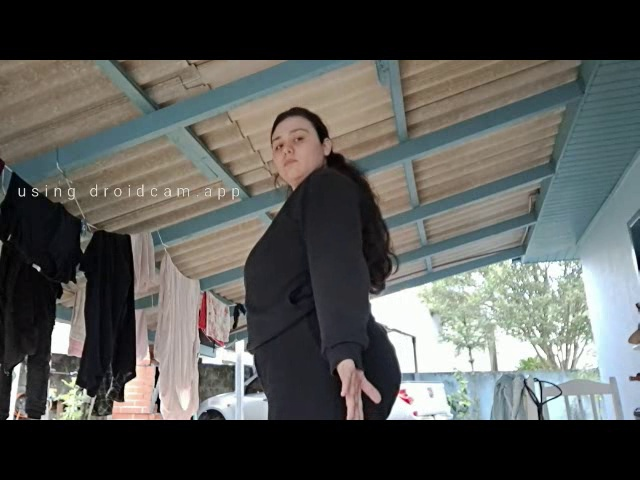MULHER: (255, 97, 345, 207)
